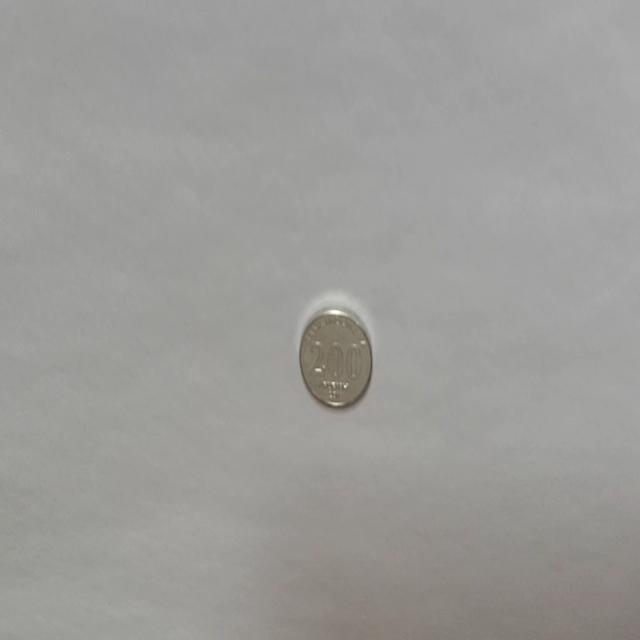dua ratus rupiah: (298, 304, 372, 410)
